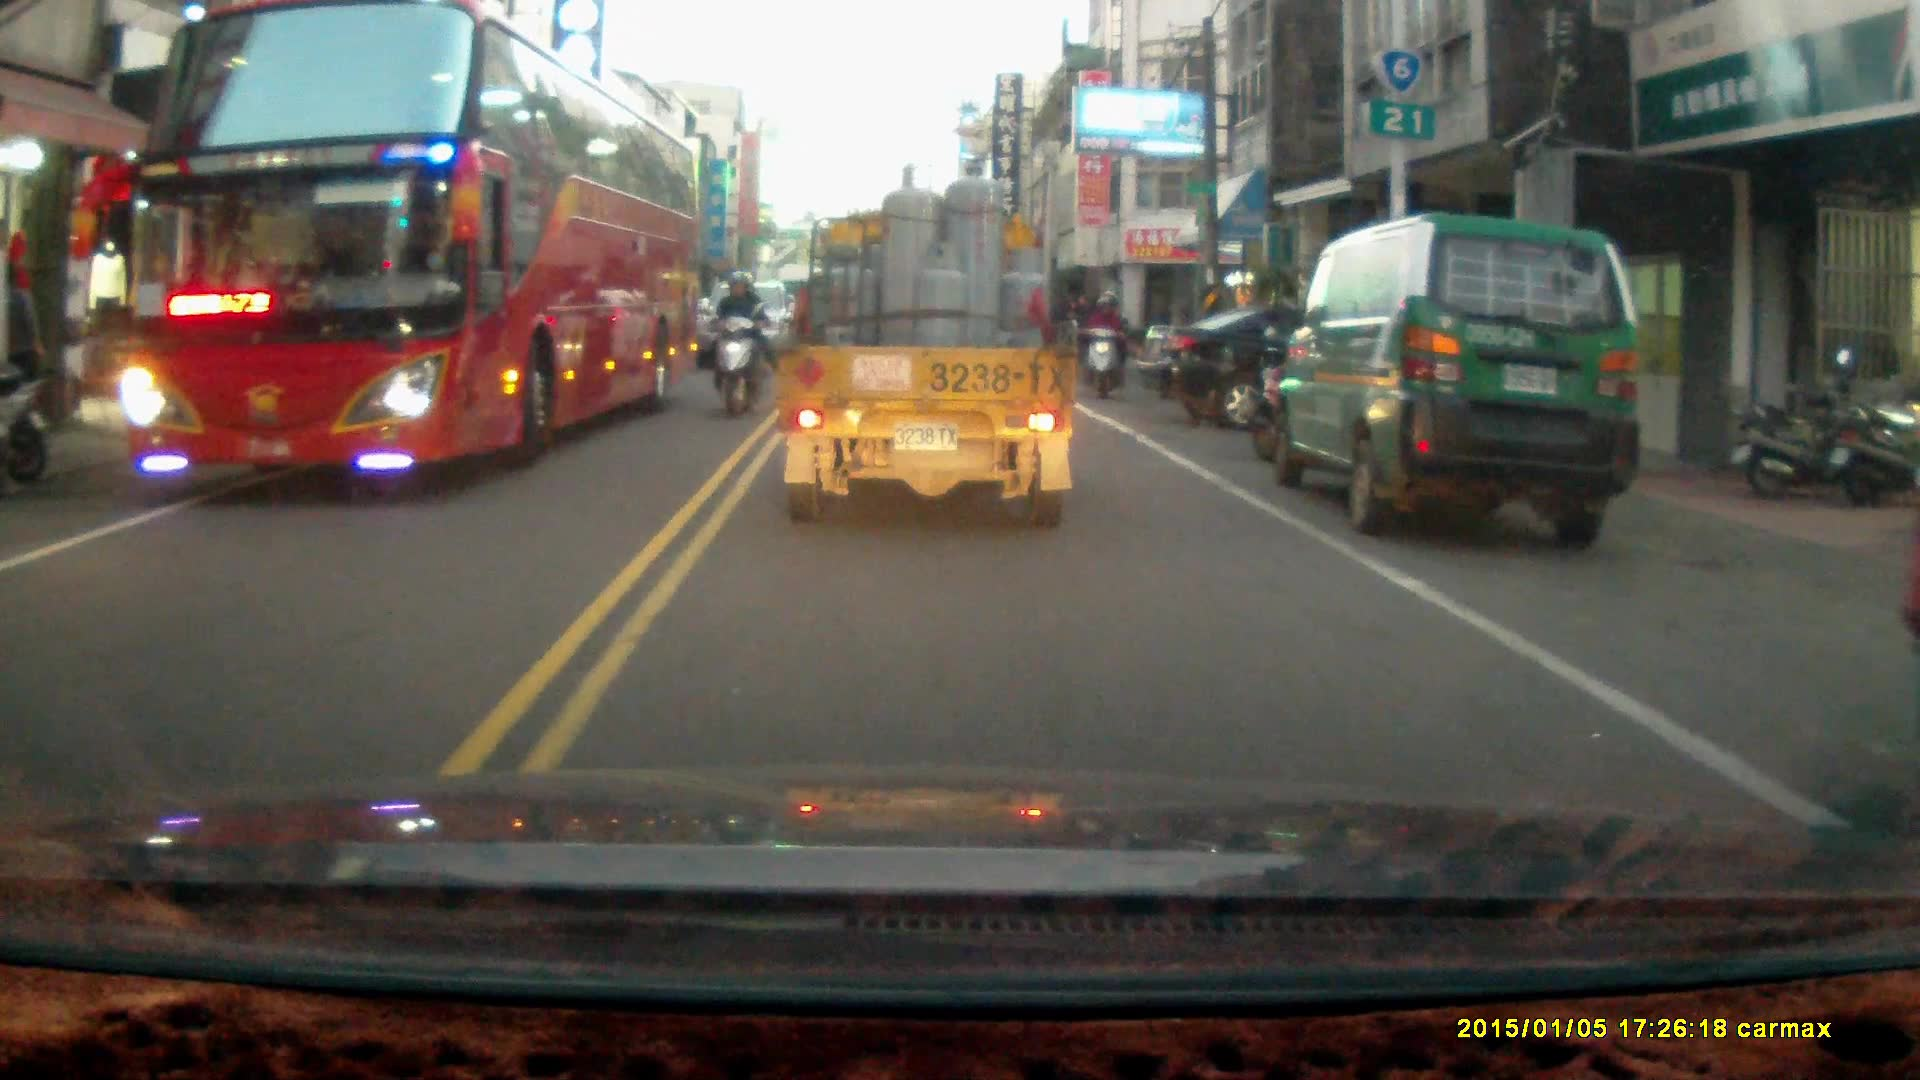rider: (698, 269, 770, 418), (1079, 290, 1130, 399)
vehicle: (126, 24, 709, 483), (1274, 210, 1647, 547), (773, 158, 1078, 531), (1138, 304, 1480, 430), (688, 277, 808, 375)
